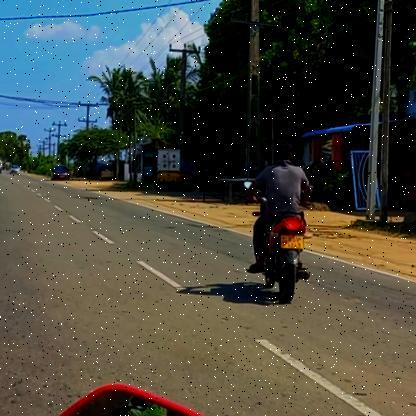motorcycle: (244, 212, 319, 312)
